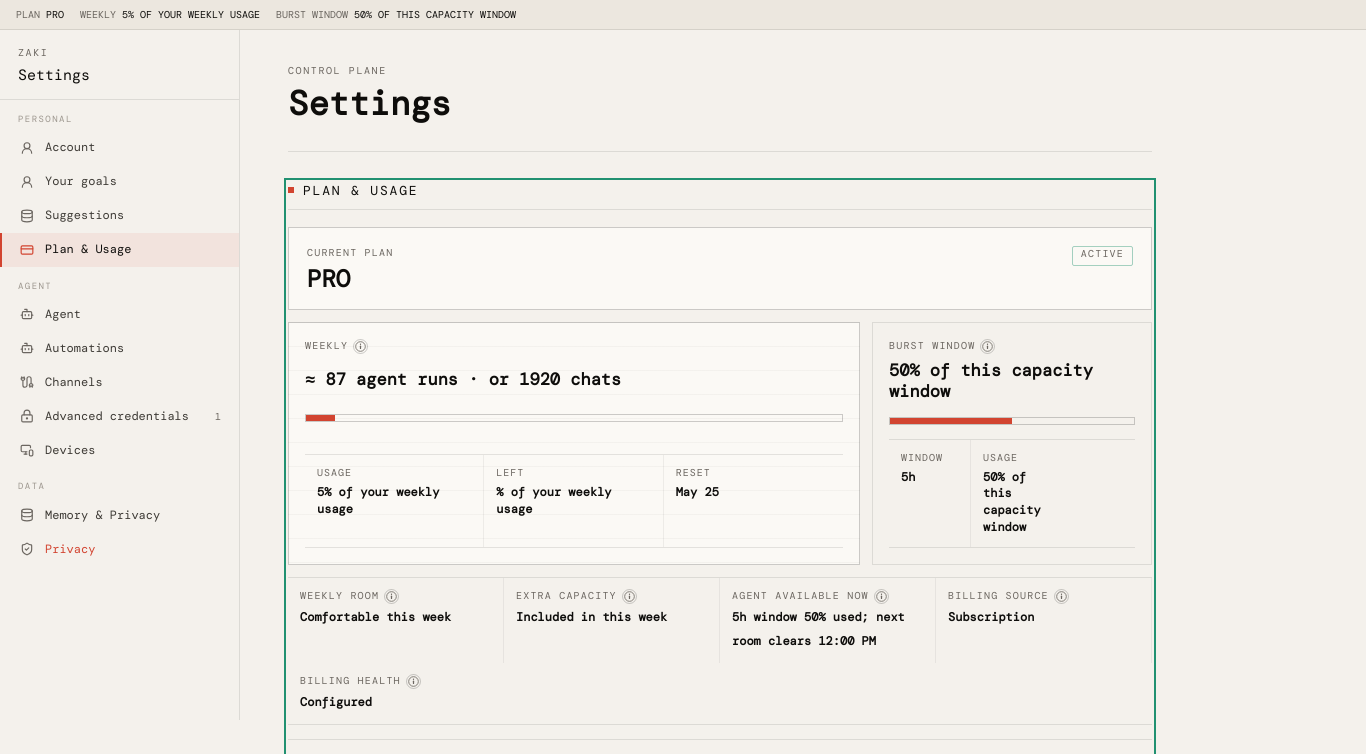
SettingsPage › switches the active category and hash from the settings nav
Click the link "Channels": [61, 382] box [20,374,103,390]
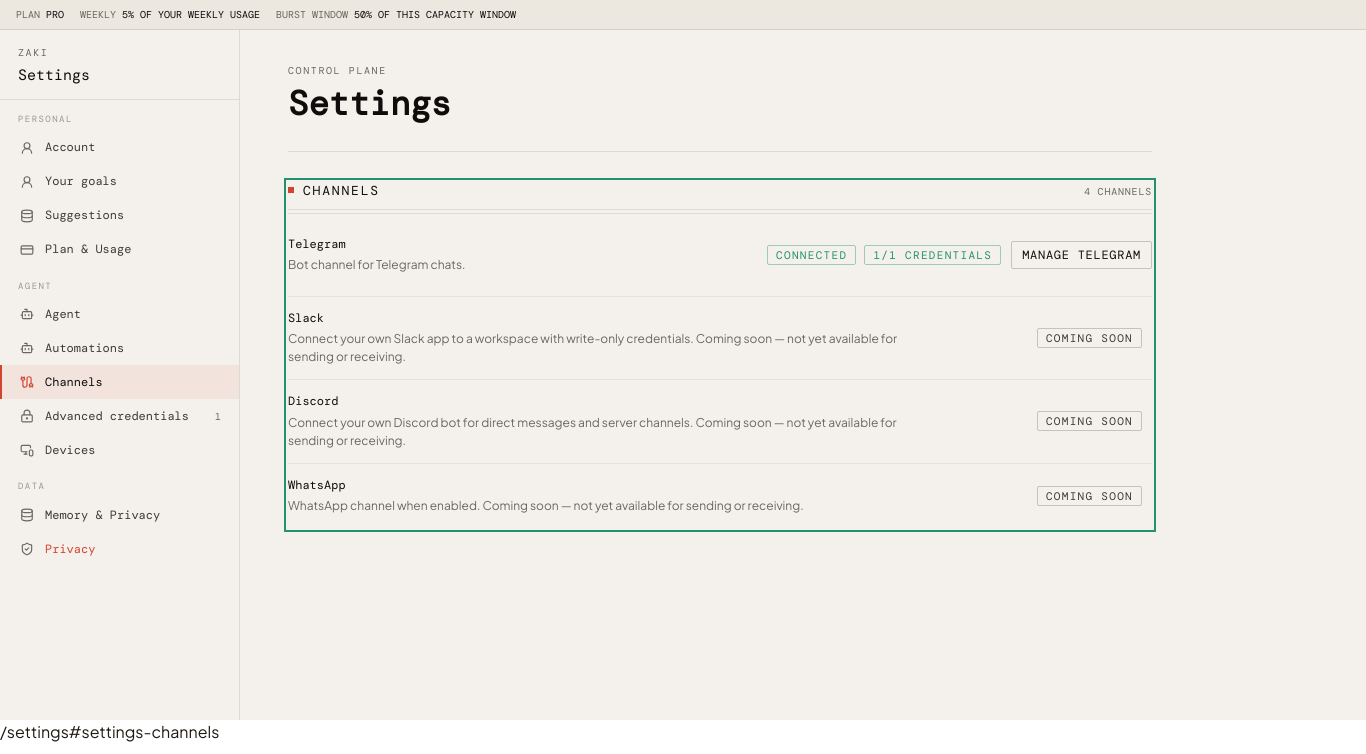
Result: the text with test id "settings-location" reads "/settings#settings-channels" at [0,721,219,742]
Result: the element with test id "settings-channels" is shown at [288,182,1152,528]
